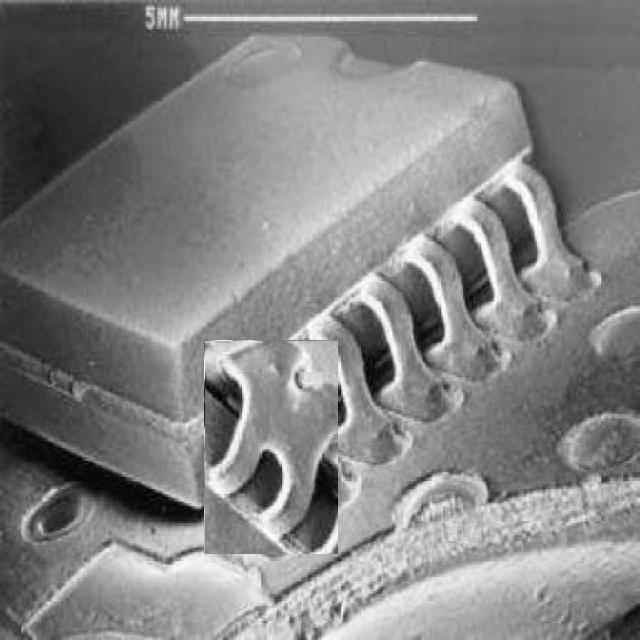Short_circuit: (204, 340, 338, 554)
